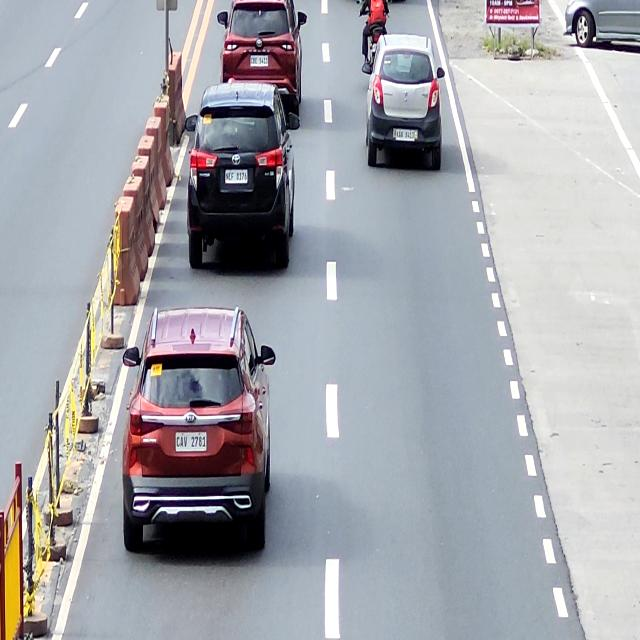Car: (122, 304, 275, 549), (184, 81, 300, 272), (360, 33, 446, 171), (217, 0, 309, 109)
License-Plate: (175, 431, 208, 453), (224, 169, 248, 185), (395, 128, 416, 144), (249, 54, 269, 68)
Motorcycle: (358, 0, 392, 70)
